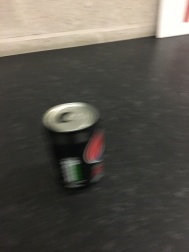can_black: (26, 95, 128, 211)
